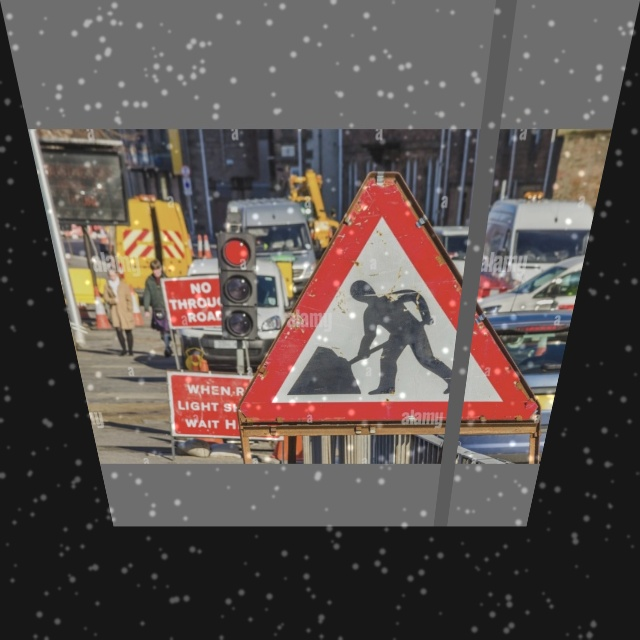Men_at_Work: (243, 183, 558, 426)
